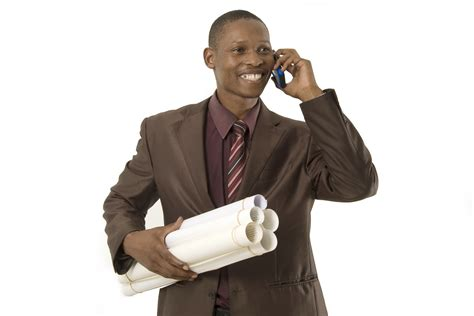homme: (98, 21, 368, 302)
